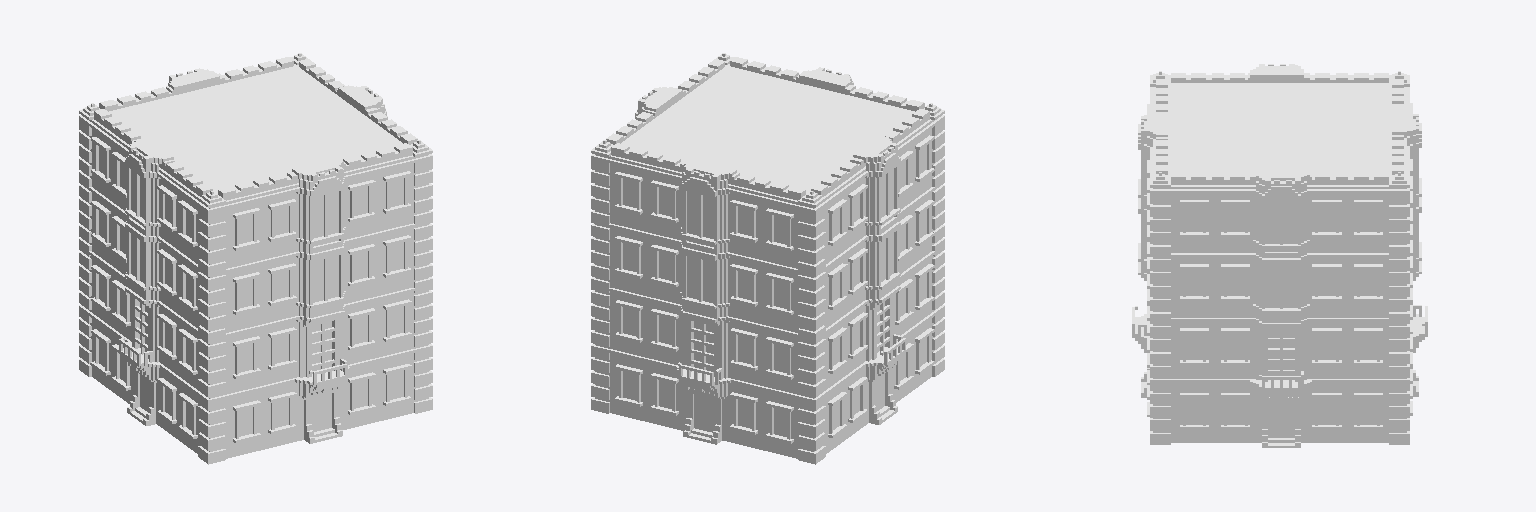
File: BLD_Vict01.obj
The picture shows the model from 3 angles: view 1: azimuth 30°, elevation 25°; view 2: azimuth 150°, elevation 25°; view 3: azimuth 270°, elevation 25°; orthographic projection.
Visible parts, largest first — view 1: object 1; view 2: object 1; view 3: object 1.
Part boxes in pixels (x1,y1,x2,y2): object 1: (79, 53, 432, 464); object 1: (591, 53, 944, 464); object 1: (1132, 64, 1427, 447).
Bounding box in the file's own units: 10 × 10 × 10.